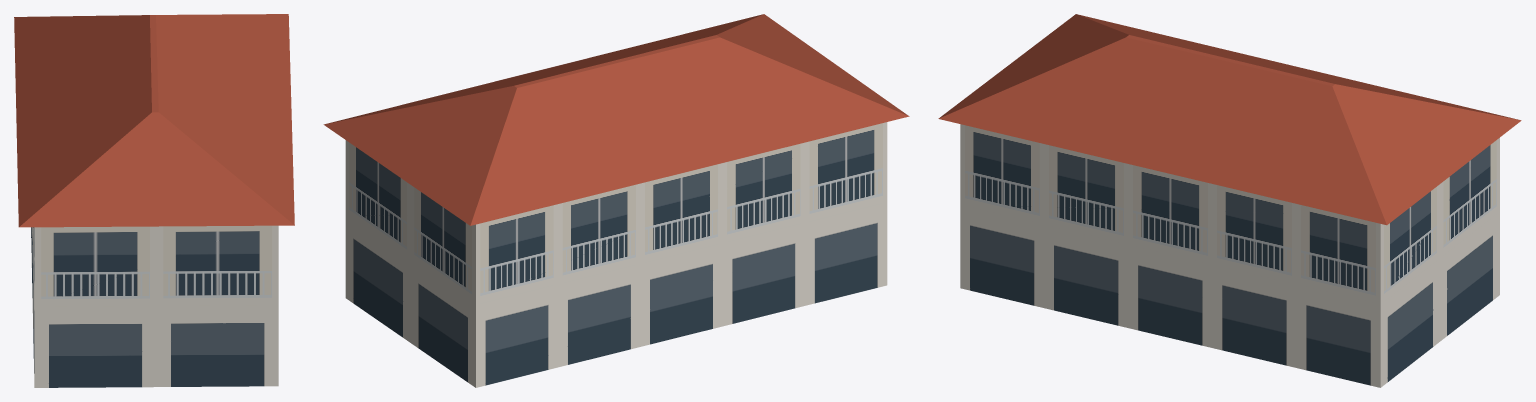
The model's file is tamarijn.glb.
3 views of the same model, side by side, from view 1: azimuth 30°, elevation 25°; view 2: azimuth 150°, elevation 25°; view 3: azimuth 270°, elevation 25° (orthographic). The views are drawn at different scales.
Parts seen in each view (by area): view 1: tamarijn_lod0; view 2: tamarijn_lod0; view 3: tamarijn_lod0.
Part boxes in pixels (x1,y1,x2,y2): tamarijn_lod0: (14, 14, 294, 387); tamarijn_lod0: (323, 14, 909, 387); tamarijn_lod0: (938, 14, 1521, 387).
Size of what is drawn, in the model's own units: 18.44 by 9.4 by 21.52.
4 materials, 2 textured.
